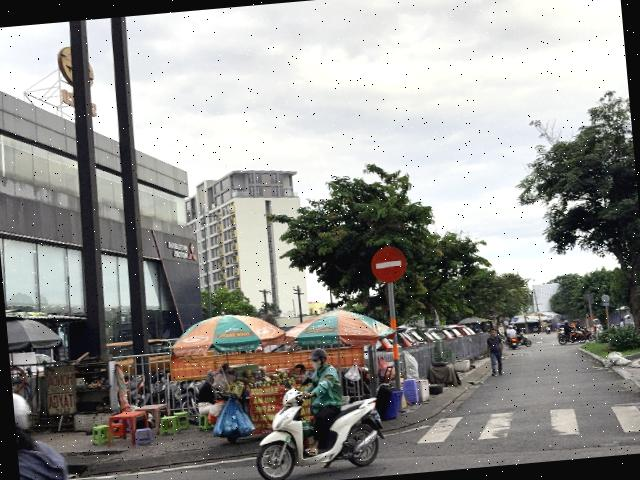cam-di-nguoc-chieu: (370, 244, 408, 284)
